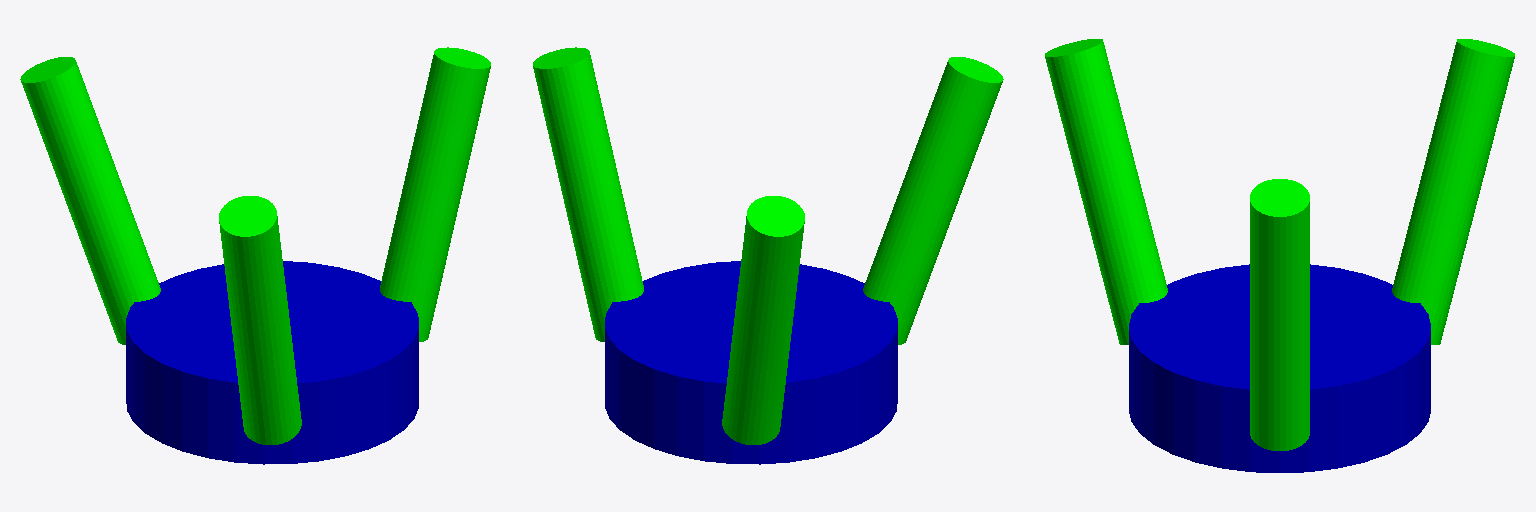
URDF robot description (gripper_3f_1j):
<?xml version="1.0"?>
<robot name="gripper_3f_1j">
    <link name="palm">
        <inertia>
            <mass value='3.0'/>
            <origin xyz='0 0 0'/>
            <inertia ixx="1.0" ixy="0.0" ixz="0.0" iyy="1.0" iyz="0.0" izz="1.0"/>
        </inertia>
        <visual>
            <geometry>
                <cylinder length="0.03" radius="0.05"/>
            </geometry>
            <material name="blue">
                <color rgba="0 0 .8 1"/>
            </material>
        </visual>
        <collision>
            <origin rpy="0 0 0 " xyz="0 0 0"/>
            <geometry>
                <cylinder length="0.04" radius="0.05"/>
            </geometry>
            <contact_coefficients kd="1.0" kp="10000.0" mu="1.5"/>
        </collision>
    </link>
    
    <link name='finger_1'>
        <inertia>
            <mass value='.1'/>
            <inertia ixx="0.01" ixy="0" ixz="0" iyy="0.01" iyz="0" izz="0.01"/>
        </inertia>
        <visual>
            <origin xyz='0 0 .05'/>
            <geometry>
                <cylinder length='.1' radius='.01'/>
            </geometry>
            <material name='green'>
                <color rgba='0 1 0 1'/>
            </material>
        </visual>
        <collision>
            <origin rpy="0 0 0 " xyz="0 0 0"/>
            <geometry>
                <cylinder length='.1' radius='.01'/>
            </geometry>
            <contact_coefficients kd="1.0" kp="10000.0" mu="1"/>
        </collision>
    </link>

    <joint name='finger_1_joint' type="revolute">
        <origin xyz=".05 0 .0" rpy="0 .25 0"/>
        <parent link='palm'/>
        <child link='finger_1'/>
        <axis xyz='0 1 0'/>
        <dynamics damping='100.0' friction='1.0'/>
        <limit effort='30' lower='-.6' upper='.25' velocity='2.0'/>
    </joint>

    <link name='finger_2'>
        <inertia>
            <mass value='.1'/>
            <inertia ixx="0.01" ixy="0" ixz="0" iyy="0.01" iyz="0" izz="0.01"/>
        </inertia>
        <visual>
            <origin xyz='0 0 .05'/>
            <geometry>
                <cylinder length='.1' radius='.01'/>
            </geometry>
            <material name='green'>
                <color rgba='0 1 0 1'/>
            </material>
        </visual>
        <collision>
            <origin rpy="0 0 0 " xyz="0 0 0"/>
            <geometry>
                <cylinder length='.1' radius='.01'/>
            </geometry>
            <contact_coefficients kd="1.0" kp="10000.0" mu="1"/>
        </collision>
    </link>

    <joint name='finger_2_joint' type="revolute">
        <origin xyz="-.025 -0.043301270189222 .0" rpy=".25 -.25 0"/>
        <parent link='palm'/>
        <child link='finger_2'/>
        <axis xyz='1 -1 0'/>
        <dynamics damping='100.0' friction='1.0'/>
        <limit effort='30' lower='-.6' upper='.25' velocity='2.0'/>
    </joint>

    <link name='finger_3'>
        <inertia>
            <mass value='.1'/>
            <inertia ixx="0.01" ixy="0" ixz="0" iyy="0.01" iyz="0" izz="0.01"/>
        </inertia>
        <visual>
            <origin xyz='0 0 .05'/>
            <geometry>
                <cylinder length='.1' radius='.01'/>
            </geometry>
            <material name='green'>
                <color rgba='0 1 0 1'/>
            </material>
        </visual>
        <collision>
            <origin rpy="0 0 0 " xyz="0 0 0"/>
            <geometry>
                <cylinder length='.1' radius='.01'/>
            </geometry>
            <contact_coefficients kd="1.0" kp="10000.0" mu="1"/>
        </collision>
    </link>

    <joint name='finger_3_joint' type="revolute">
        <origin xyz="-.025 .043301270189222 .0" rpy="-.25 -.25 0"/>
        <parent link='palm'/>
        <child link='finger_3'/>
        <axis xyz='-1 -1 0'/>
        <limit effort='30' lower='-.6' upper='.25' velocity='2.0'/>
        <dynamics damping='100.0' friction='1.0'/>
    </joint>
</robot>

--- Render facts (derived) ---
Views: 3 orthographic renders of the robot side by side, from view 1: azimuth 30°, elevation 25°; view 2: azimuth 150°, elevation 25°; view 3: azimuth 270°, elevation 25°.
Model gripper_3f_1j with 4 links and 3 joints (3 revolute), rooted at palm, posed every joint at zero.
Visible links, largest first — view 1: palm, finger_1, finger_3, finger_2; view 2: palm, finger_1, finger_2, finger_3; view 3: palm, finger_2, finger_3, finger_1.
Link boxes in pixels (x1,y1,x2,y2): palm: (126, 261, 418, 464); finger_1: (380, 47, 490, 341); finger_3: (20, 57, 160, 344); finger_2: (219, 196, 301, 444); palm: (605, 261, 897, 464); finger_1: (533, 47, 643, 341); finger_2: (863, 57, 1003, 344); finger_3: (722, 196, 804, 444); palm: (1129, 264, 1430, 472); finger_2: (1045, 39, 1167, 344); finger_3: (1392, 39, 1514, 344); finger_1: (1250, 179, 1309, 450).
Size in the robot's own frame: 0.1431 by 0.1555 by 0.1144 metres.
Geometry: primitives only (box / cylinder / sphere), no mesh files.